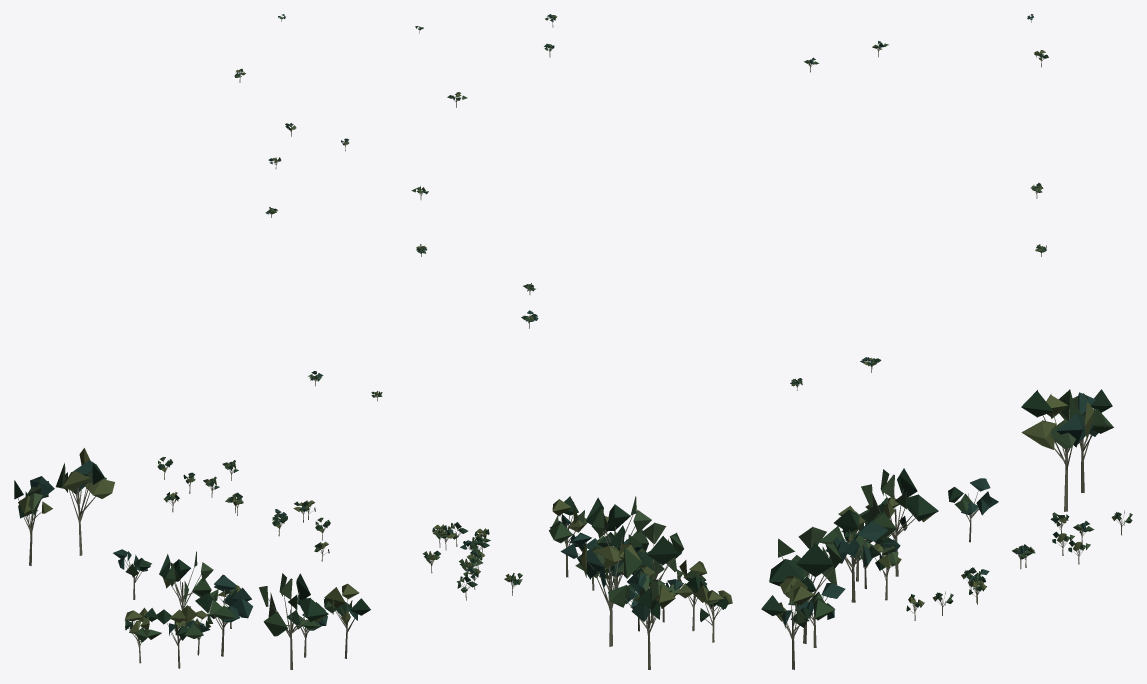
The model's file is forest_19_22.dae.
The picture shows the model from 3 angles, left to right: view 1: azimuth 30°, elevation 25°; view 2: azimuth 150°, elevation 25°; view 3: azimuth 270°, elevation 25°; orthographic projection. The views are drawn at different scales.
Visible parts, largest first — view 1: Node; view 2: Node; view 3: Node.
Boxes of the visible parts, left/top/right/bottom form: Node: left=14, top=14, right=382, bottom=669; Node: left=411, top=14, right=732, bottom=669; Node: left=761, top=14, right=1132, bottom=669.
Size of the model in its own units: 10.52 by 11.08 by 22.27.
